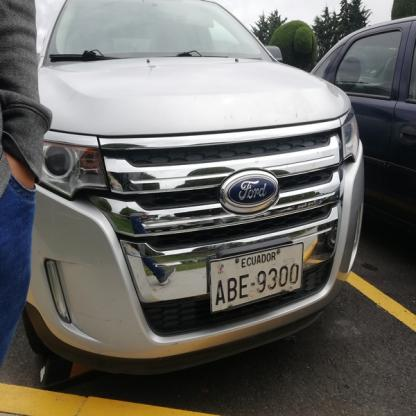Placa: (205, 248, 307, 307)
